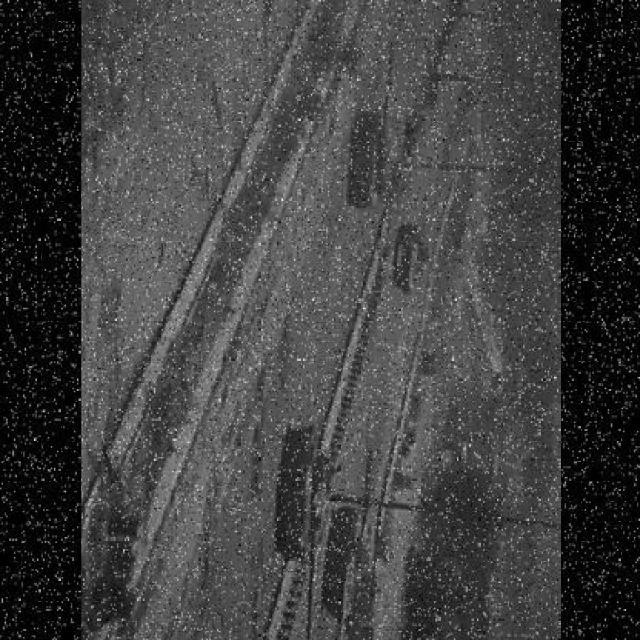Tank: (269, 418, 349, 639), (342, 40, 402, 217), (321, 486, 383, 633), (391, 218, 437, 307)
